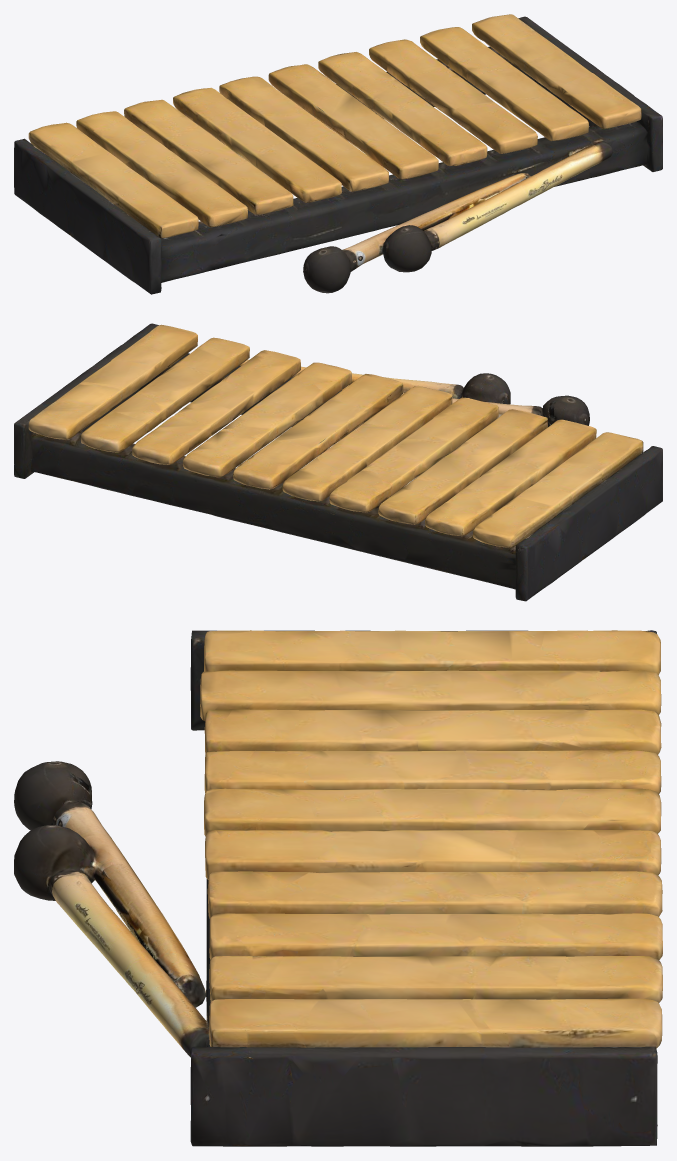
The model's file is xylo.glb.
3 views of the same model, one above another, from view 1: azimuth 30°, elevation 25°; view 2: azimuth 150°, elevation 25°; view 3: azimuth 270°, elevation 25° (orthographic). The views are drawn at different scales.
Size of the model in its own units: 1.9 by 0.2197 by 1.22.
Materials: 1 (1 with a texture image).
